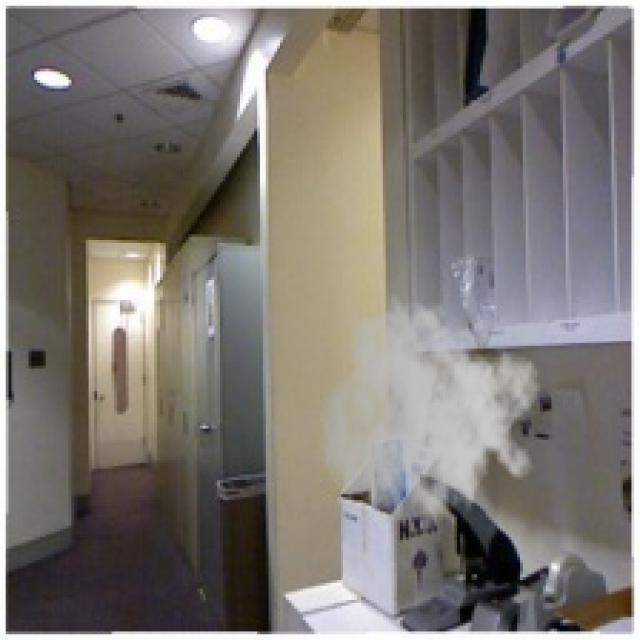Smoke: (317, 292, 543, 552)
